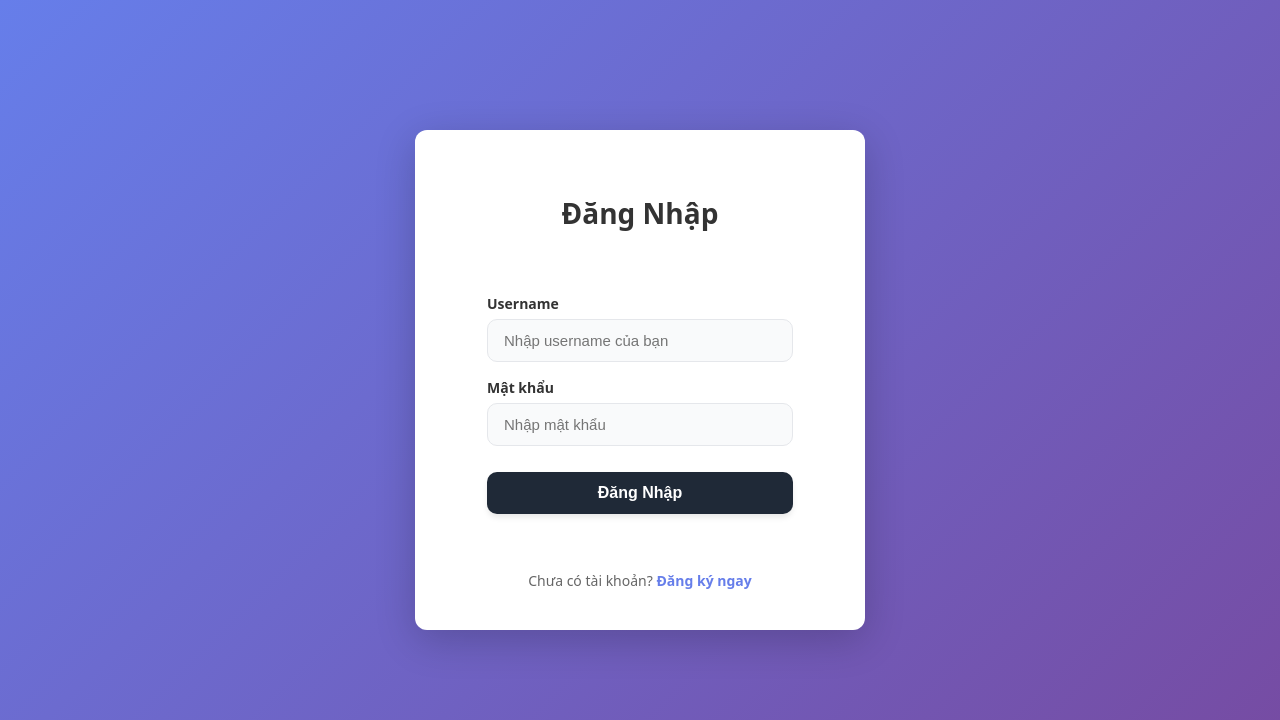
Scenario: Product CRUD Operations Tests › Read/List Products › should show empty state when no products match filter
The image size is (1280, 720).
Type "admin" into the field with test id "email-input" at (640, 341), box [487,319,793,362]
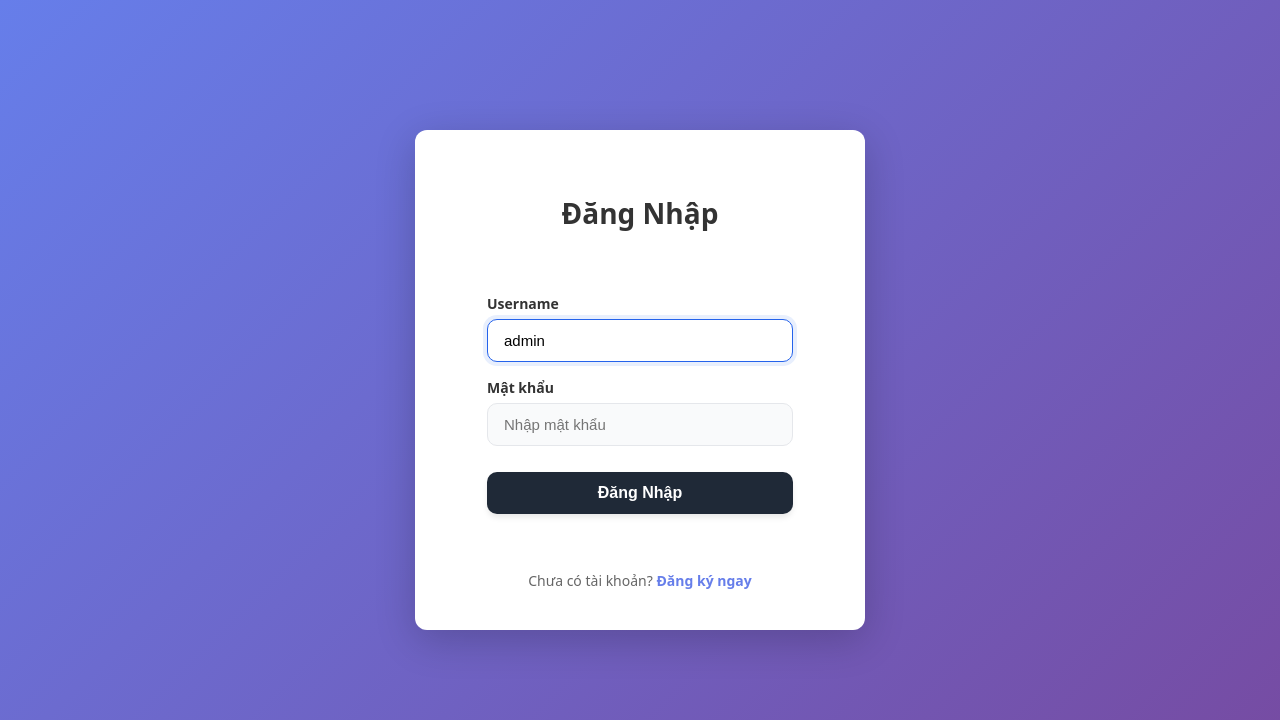
Type "Admin123" into the password field with test id "password-input" at (640, 425), box [487,403,793,446]
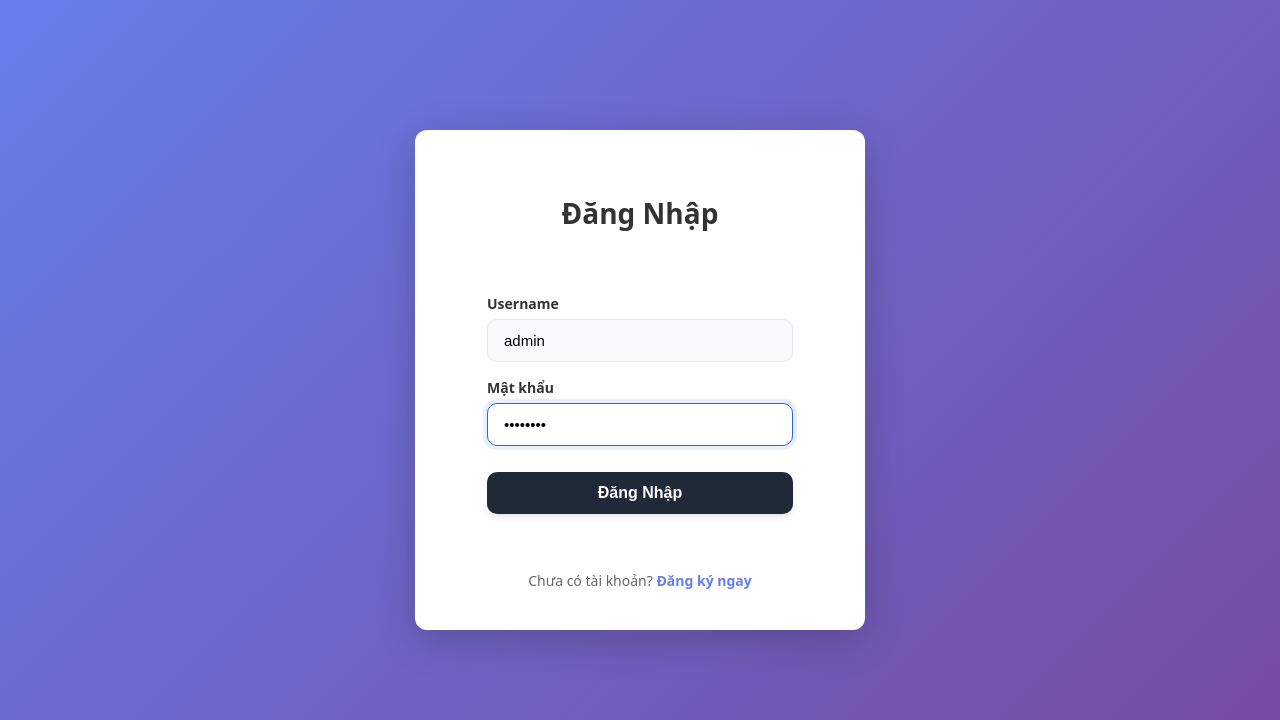
Click the button with test id "submit-button" at (640, 493), box [487,472,793,514]
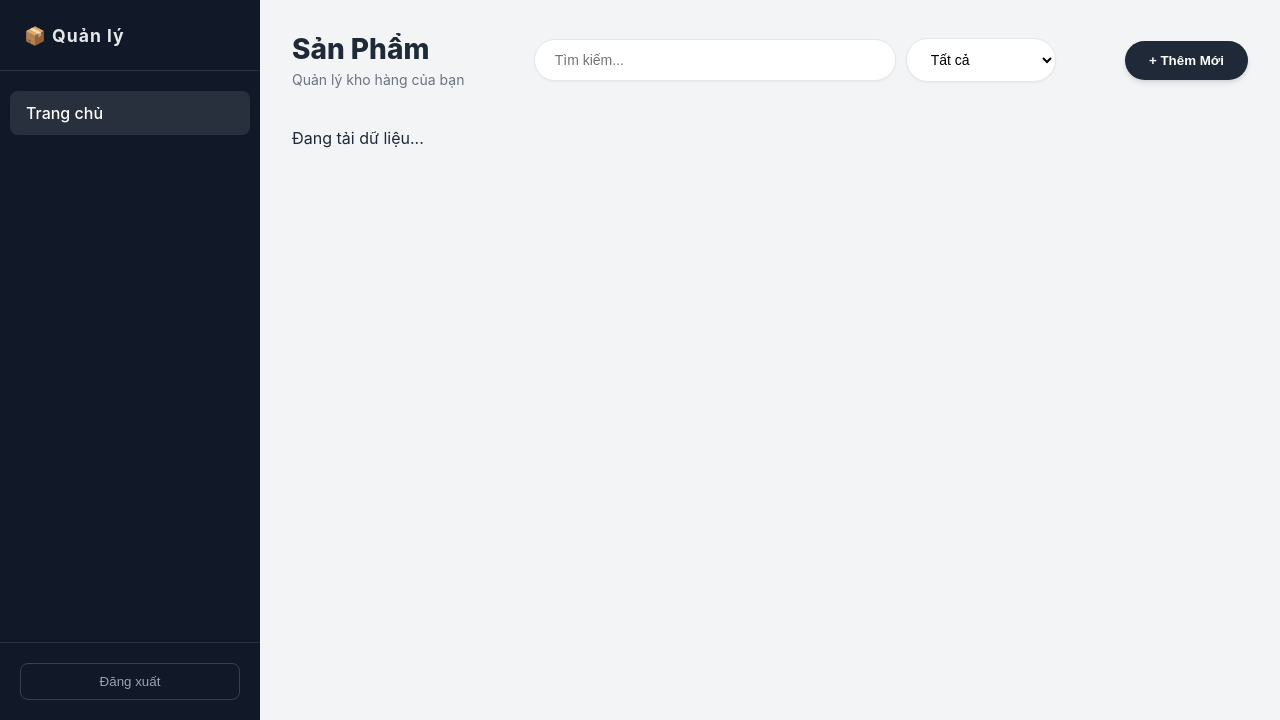
Type "ProductNotExists12345" into the field with placeholder "Tìm kiếm..." at (715, 60), box [534,39,896,81]
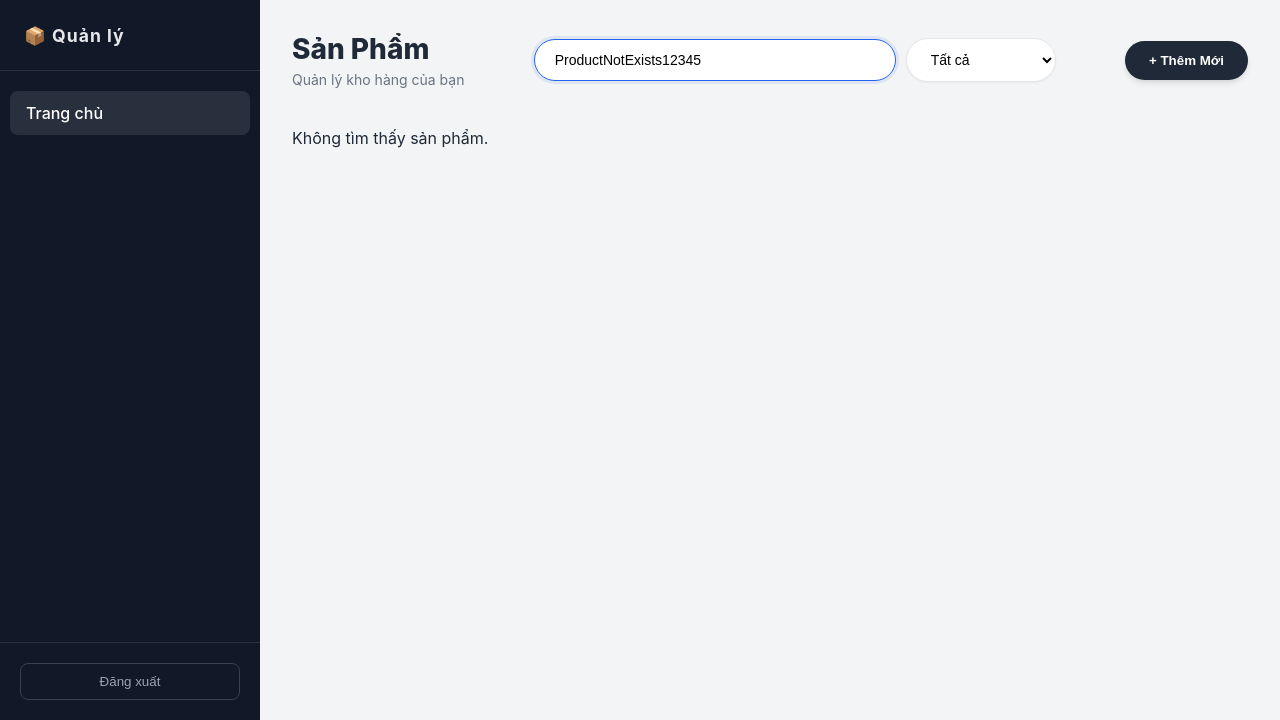
Result: the text "Không tìm thấy sản phẩm" is shown at [292,128,488,148]
